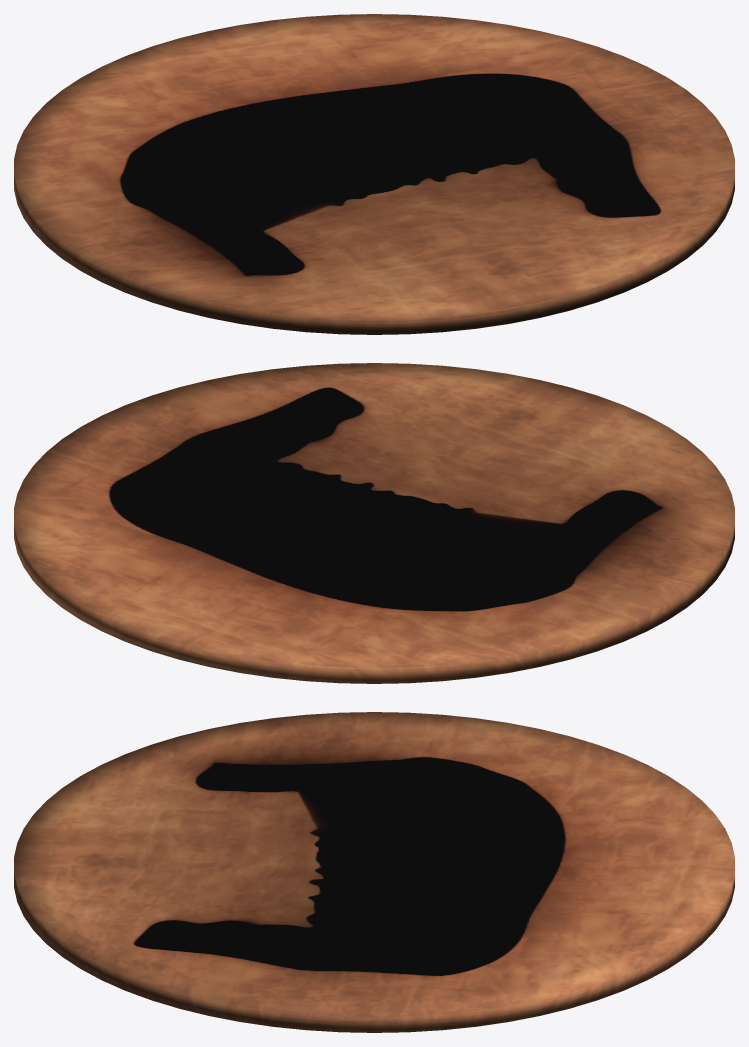
The model's file is diorama_floor.glb.
3 views of the same model, one above another, from view 1: azimuth 30°, elevation 25°; view 2: azimuth 150°, elevation 25°; view 3: azimuth 270°, elevation 25° (orthographic).
Parts seen in each view (by area): view 1: diorama_floor; view 2: diorama_floor; view 3: diorama_floor.
Boxes of the visible parts, x1,y1,x2,y2 form: diorama_floor: (14, 14, 734, 334); diorama_floor: (14, 363, 734, 683); diorama_floor: (14, 712, 734, 1032).
Bounding box in the file's own units: 2.21 × 0.0538 × 2.21.
Materials: 1 (1 with a texture image).
